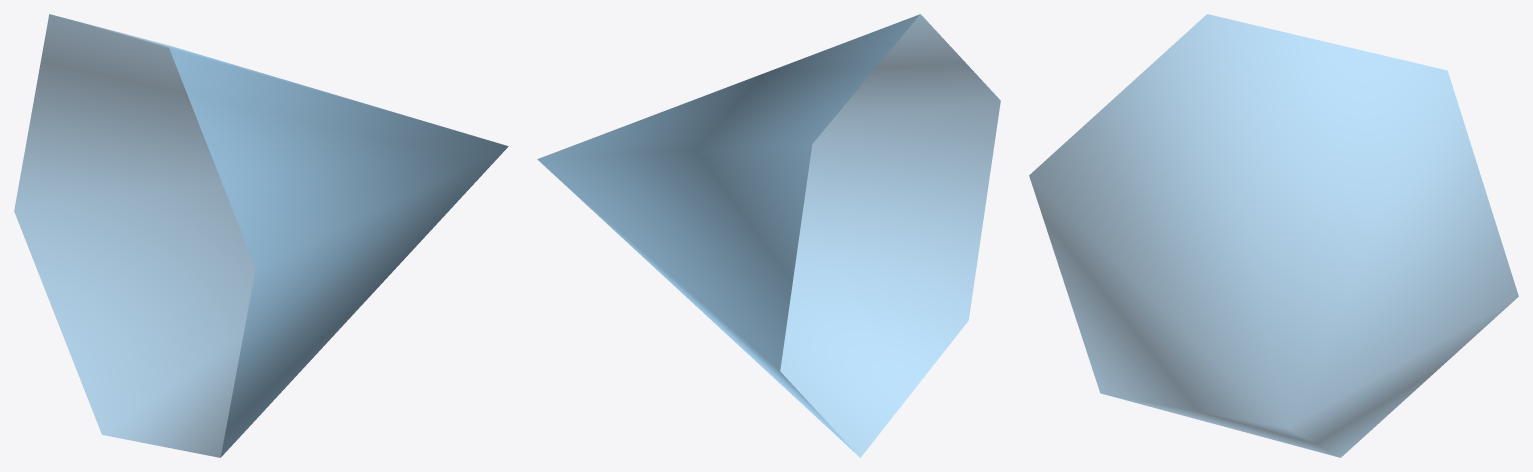
3 views of the same model, side by side, from view 1: azimuth 30°, elevation 25°; view 2: azimuth 150°, elevation 25°; view 3: azimuth 270°, elevation 25° (orthographic). The views are drawn at different scales.
Size of the model in its own units: 5 by 5.5 by 5.5.
